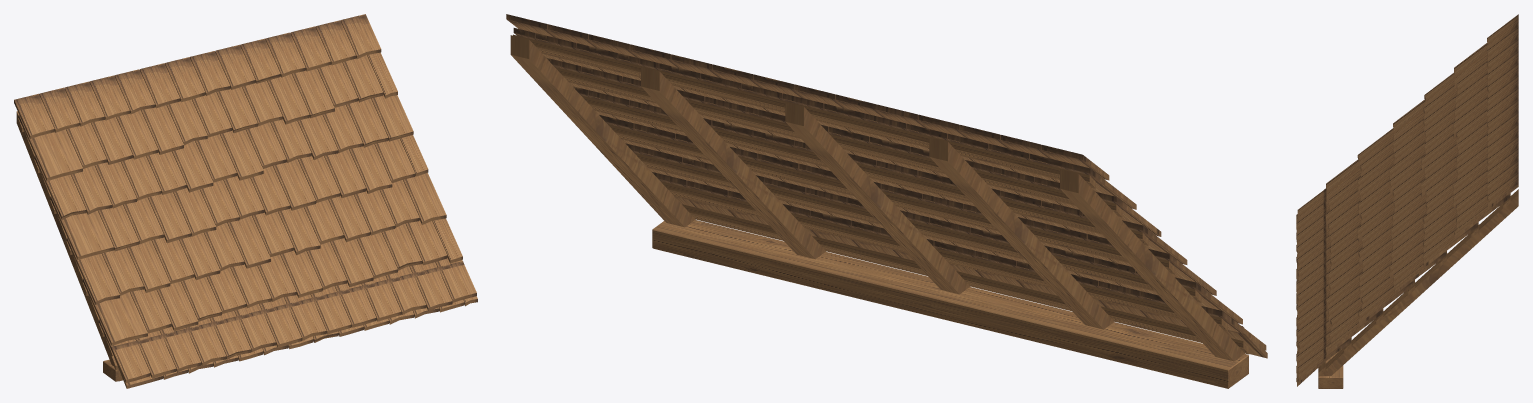
The picture shows the model from 3 angles, left to right: view 1: azimuth 30°, elevation 25°; view 2: azimuth 150°, elevation 25°; view 3: azimuth 270°, elevation 25°; orthographic projection. The views are drawn at different scales.
Parts seen in each view (by area): view 1: L33_Runtime; view 2: L33_Runtime; view 3: L33_Runtime.
Part boxes in pixels (x1,y1,x2,y2): L33_Runtime: [14, 14, 477, 388]; L33_Runtime: [506, 14, 1267, 388]; L33_Runtime: [1296, 14, 1518, 388].
Size of the model in its own units: 400 by 226 by 222.
